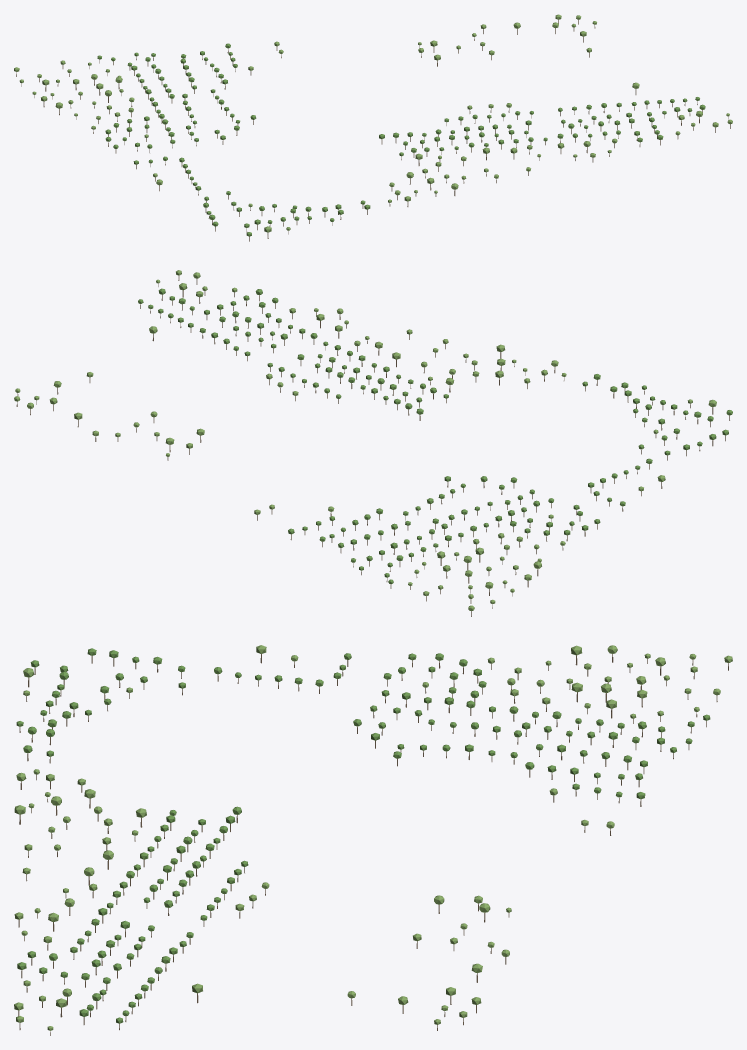
The model's file is BRASILIA_VEG_PONTOS.fbx.
The picture shows the model from 3 angles, top to bottom: view 1: azimuth 30°, elevation 25°; view 2: azimuth 150°, elevation 25°; view 3: azimuth 270°, elevation 25°; orthographic projection. The views are drawn at different scales.
Visible parts, largest first — view 1: VEG_ARVORES_FILEIRAS_pontos.001, VEG_ARVORES_PROPOSTAS_pontos.001; view 2: VEG_ARVORES_FILEIRAS_pontos.001, VEG_ARVORES_PROPOSTAS_pontos.001; view 3: VEG_ARVORES_FILEIRAS_pontos.001, VEG_ARVORES_PROPOSTAS_pontos.001.
Part boxes in pixels (x1,y1,x2,y2): VEG_ARVORES_FILEIRAS_pontos.001: (97,43,705,241); VEG_ARVORES_PROPOSTAS_pontos.001: (14,14,732,238); VEG_ARVORES_FILEIRAS_pontos.001: (138,288,732,588); VEG_ARVORES_PROPOSTAS_pontos.001: (14,270,716,616); VEG_ARVORES_FILEIRAS_pontos.001: (16,648,710,1030); VEG_ARVORES_PROPOSTAS_pontos.001: (14,645,732,1035).
Size of the model in its own units: 493 by 11.96 by 398.
